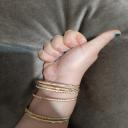ThumbsUp: (36, 27, 124, 85)
